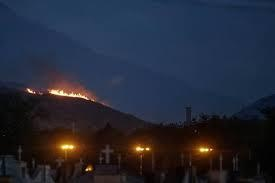fire: (26, 83, 100, 103), (135, 143, 150, 151)
